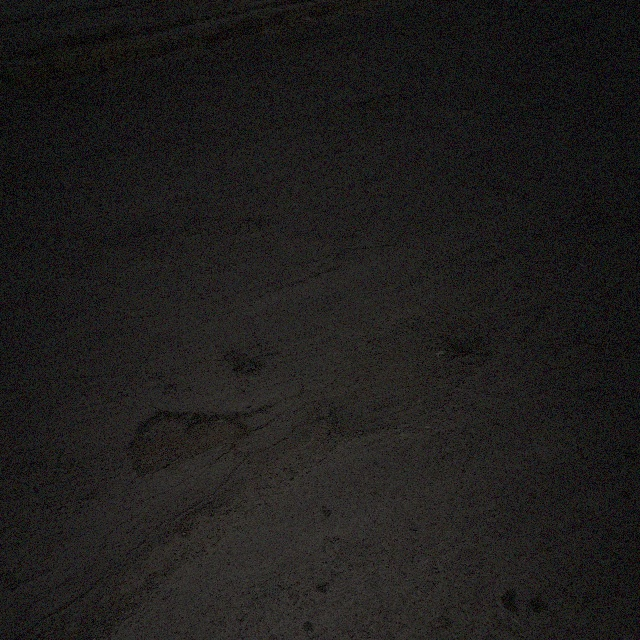pothole: (126, 408, 251, 467)
